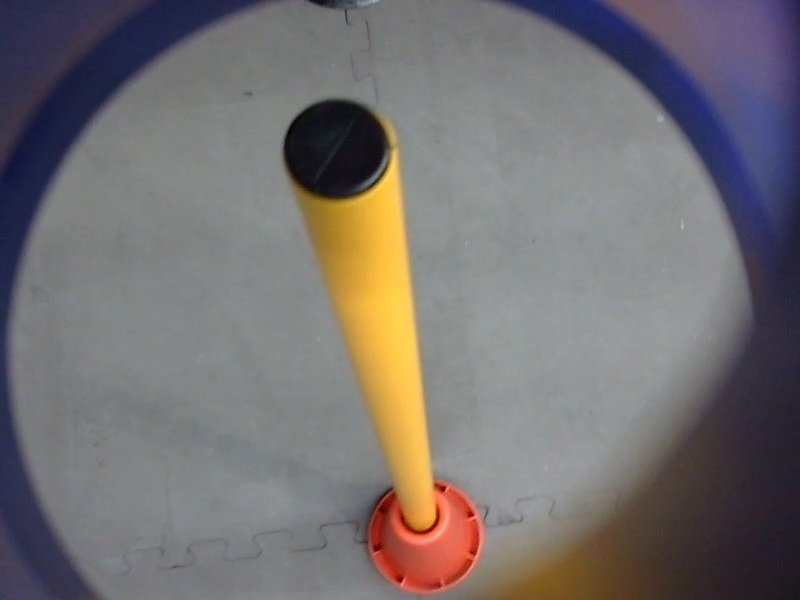tip: (272, 86, 406, 217)
